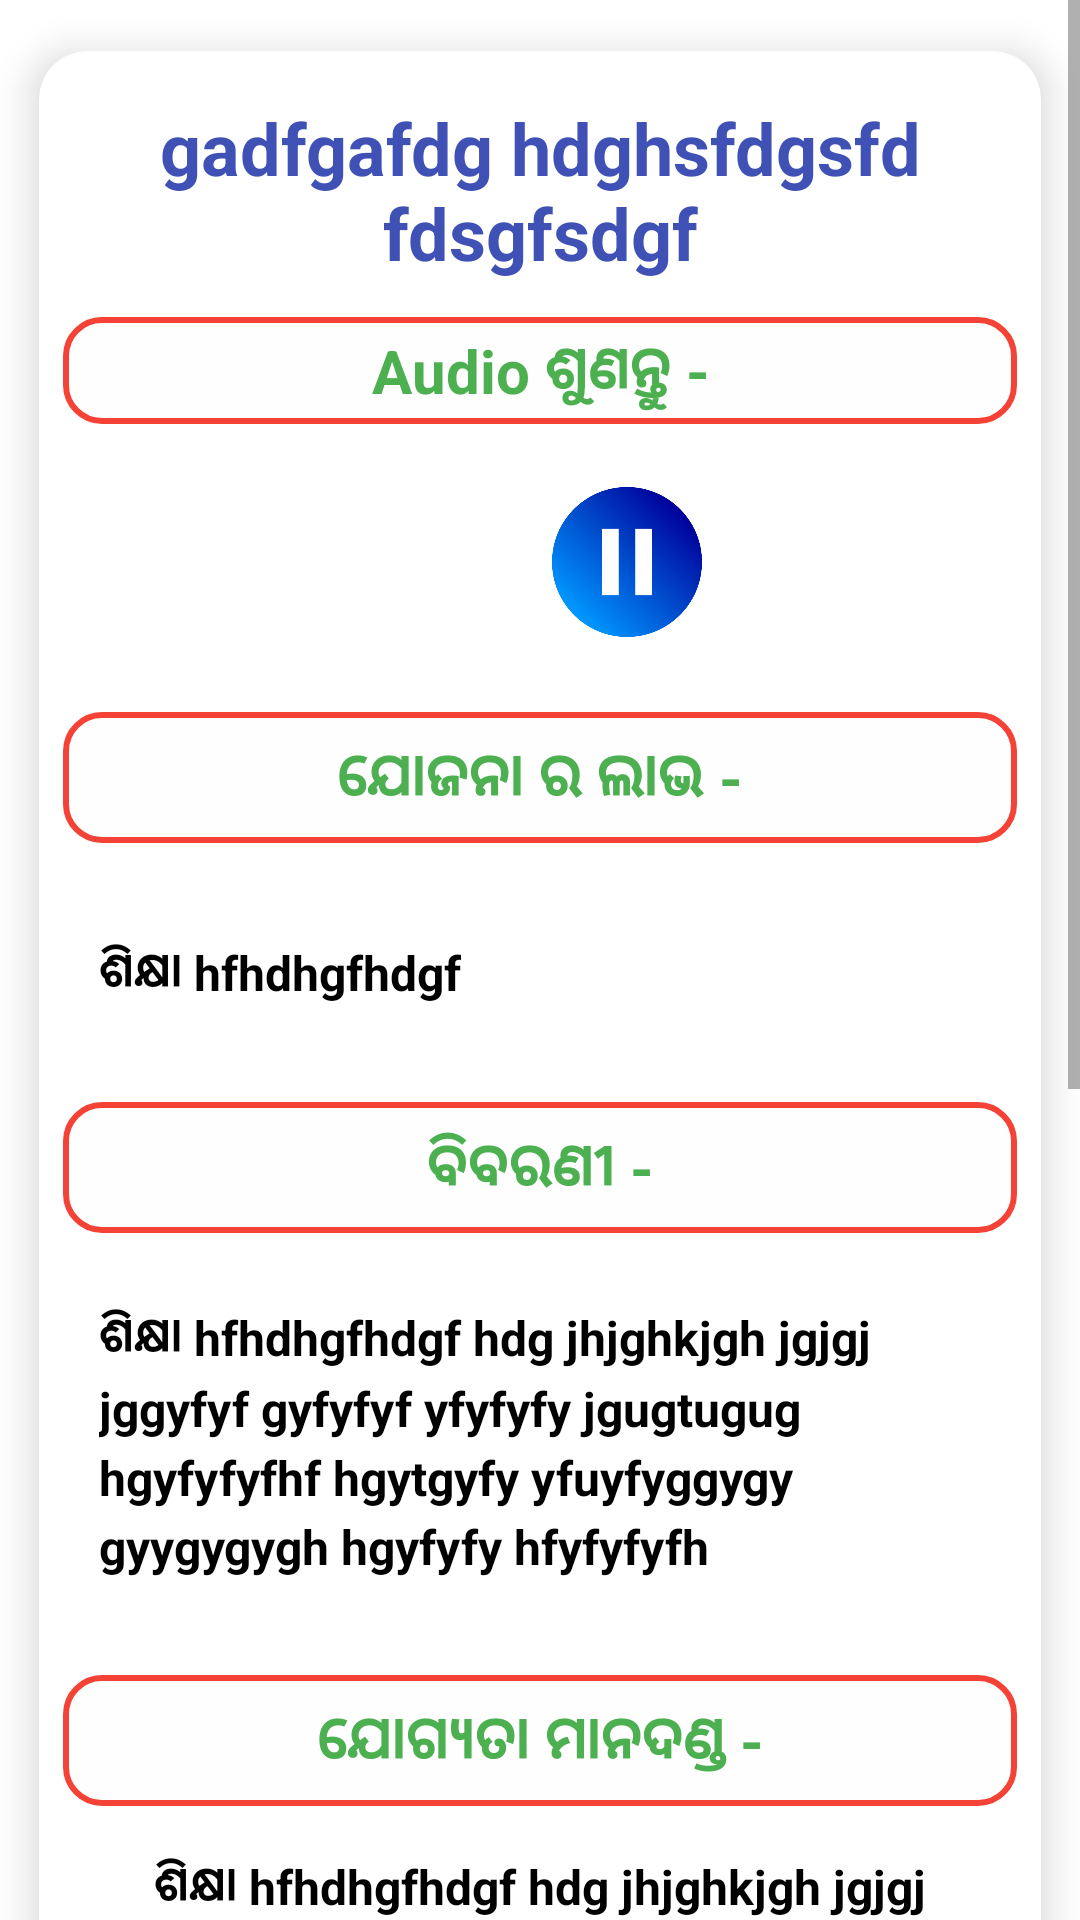

Icon click points for this 1080w x 1920h phone screenshot, format [x,y]:
pause: [627,562]
